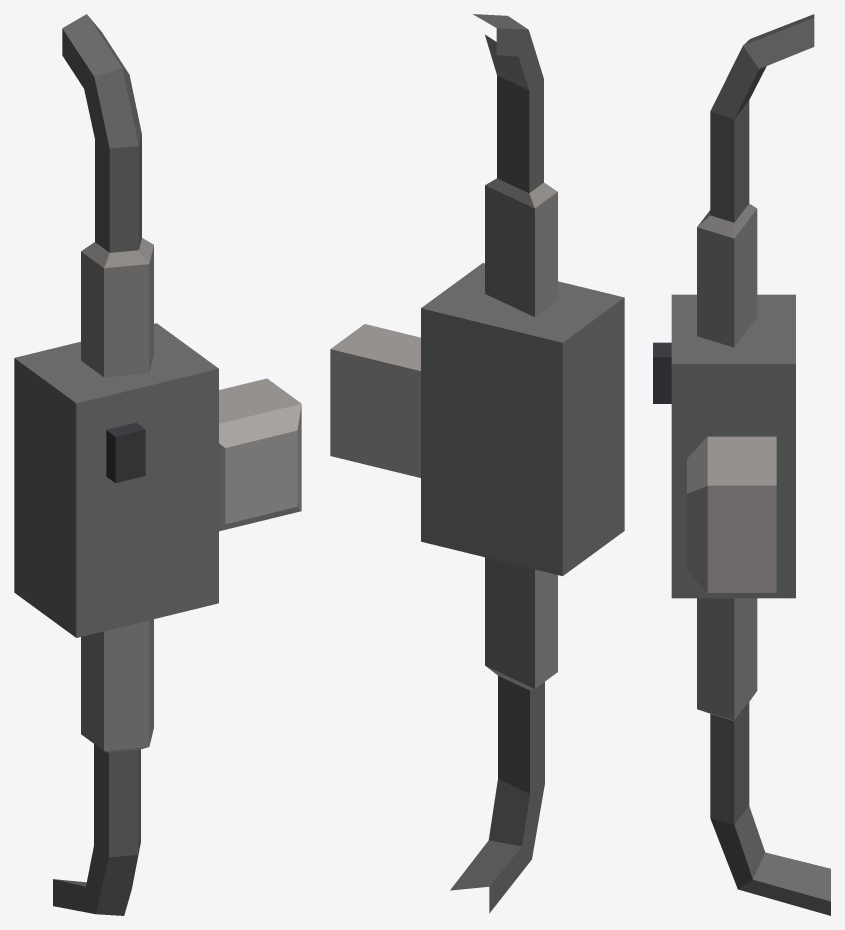
Rendered from SM_Prop_PowerBox_03.glb.
3 renders of one model, left to right at view 1: azimuth 30°, elevation 25°; view 2: azimuth 150°, elevation 25°; view 3: azimuth 270°, elevation 25°, orthographic.
Visible parts, largest first — view 1: SM_Prop_PowerBox_03; view 2: SM_Prop_PowerBox_03; view 3: SM_Prop_PowerBox_03.
Part boxes in pixels (left/top/right/bottom): SM_Prop_PowerBox_03: left=14, top=14, right=301, bottom=915; SM_Prop_PowerBox_03: left=330, top=14, right=624, bottom=913; SM_Prop_PowerBox_03: left=653, top=14, right=830, bottom=915.
Bounding box in the file's own units: 0.2629 × 0.9299 × 0.1668.
1 material, 1 textured.
